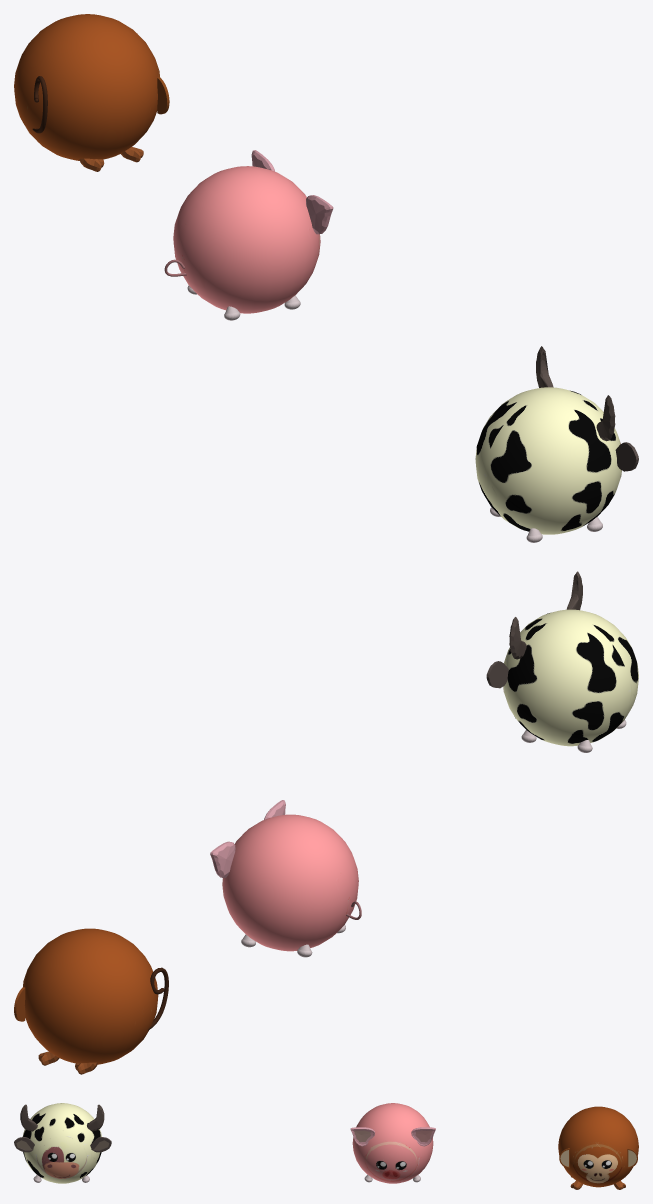
Rendered from animal_balls_part1.fbx.
3 views of the same model, one above another, from view 1: azimuth 30°, elevation 25°; view 2: azimuth 150°, elevation 25°; view 3: azimuth 270°, elevation 25° (orthographic). The views are drawn at different scales.
Visible parts, largest first — view 1: Cow, pig, monkey; view 2: Cow, pig, monkey; view 3: Cow, monkey, pig.
Part boxes in pixels (x1,y1,x2,y2): Cow: (475, 346, 638, 542); pig: (164, 150, 333, 320); monkey: (14, 14, 169, 171); Cow: (486, 571, 638, 752); pig: (210, 800, 361, 957); monkey: (14, 928, 168, 1074); Cow: (14, 1103, 111, 1183); monkey: (558, 1106, 638, 1189); pig: (350, 1103, 435, 1183).
Bounding box in the file's own units: 623 × 521 × 3584.
